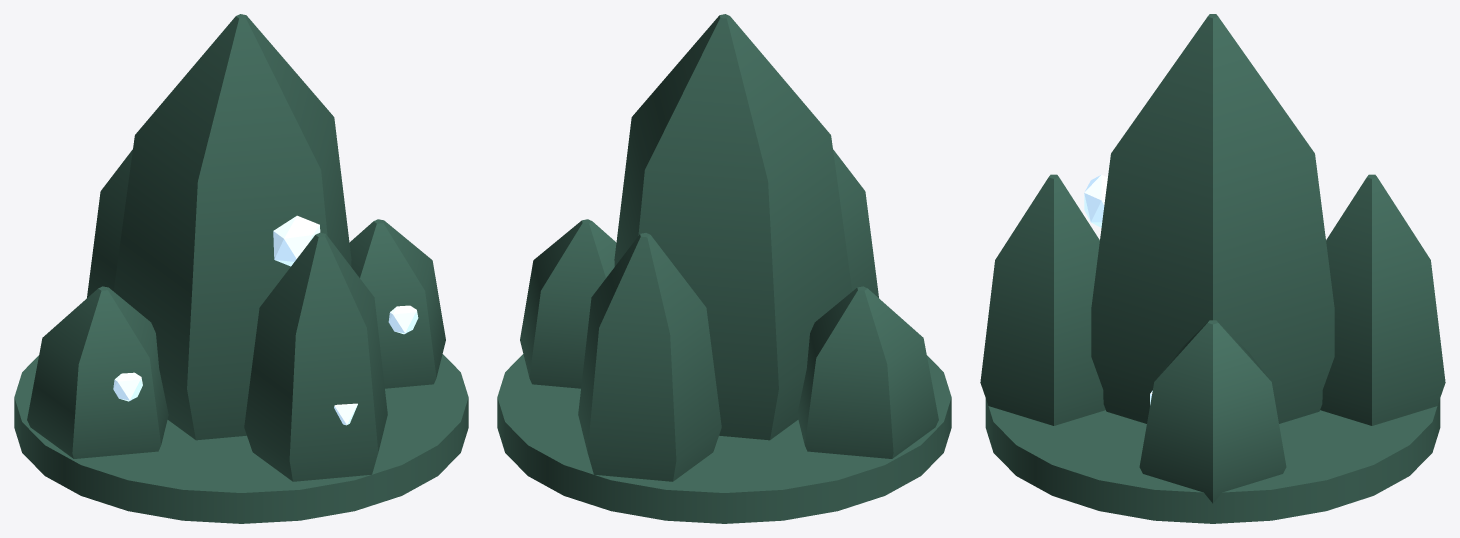
3 views of the same model, side by side, from view 1: azimuth 30°, elevation 25°; view 2: azimuth 150°, elevation 25°; view 3: azimuth 270°, elevation 25° (orthographic).
Parts seen in each view (by area): view 1: Faceted crystal tower, Foundation drum, Faceted crystal tower.004, Faceted crystal tower.003, Faceted crystal tower.001, Faceted crystal tower.002, Central luminous node, Crystal luminous node, Crystal luminous node.002; view 2: Faceted crystal tower, Foundation drum, Faceted crystal tower.002, Faceted crystal tower.003, Faceted crystal tower.001, Faceted crystal tower.004; view 3: Faceted crystal tower, Foundation drum, Faceted crystal tower.002, Faceted crystal tower.004, Faceted crystal tower.001, Central luminous node.
Part boxes in pixels (x1=…): Faceted crystal tower: x1=113, y1=14, x2=351, y2=440; Foundation drum: x1=14, y1=354, x2=468, y2=523; Faceted crystal tower.004: x1=244, y1=233, x2=387, y2=481; Faceted crystal tower.003: x1=27, y1=286, x2=168, y2=458; Faceted crystal tower.001: x1=349, y1=219, x2=445, y2=388; Faceted crystal tower.002: x1=87, y1=149, x2=132, y2=297; Central luminous node: x1=273, y1=215, x2=320, y2=266; Crystal luminous node: x1=388, y1=305, x2=418, y2=334; Crystal luminous node.002: x1=113, y1=372, x2=142, y2=401; Faceted crystal tower: x1=614, y1=14, x2=852, y2=440; Foundation drum: x1=497, y1=354, x2=951, y2=523; Faceted crystal tower.002: x1=578, y1=233, x2=721, y2=481; Faceted crystal tower.003: x1=797, y1=286, x2=938, y2=458; Faceted crystal tower.001: x1=520, y1=219, x2=616, y2=388; Faceted crystal tower.004: x1=833, y1=149, x2=878, y2=297; Faceted crystal tower: x1=1091, y1=14, x2=1334, y2=423; Foundation drum: x1=985, y1=398, x2=1440, y2=523; Faceted crystal tower.002: x1=1320, y1=174, x2=1445, y2=425; Faceted crystal tower.004: x1=980, y1=174, x2=1105, y2=425; Faceted crystal tower.001: x1=1139, y1=320, x2=1286, y2=503; Central luminous node: x1=1084, y1=174, x2=1107, y2=227.
Size of the model in its own units: 2.04 by 2 by 2.05.
